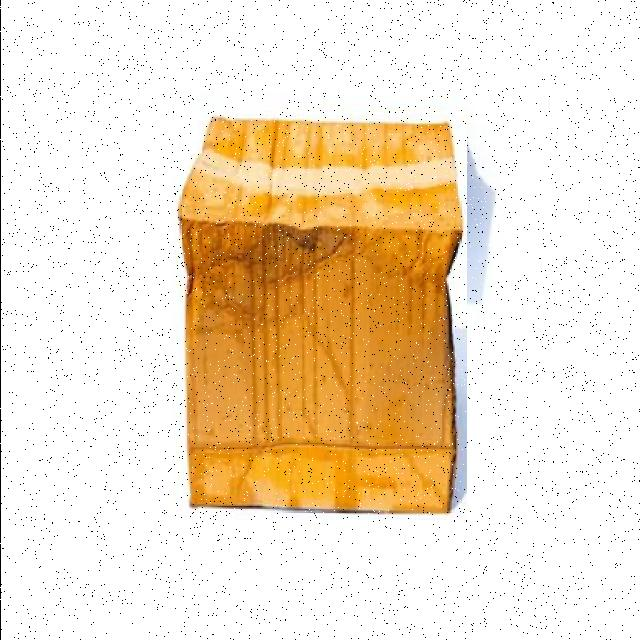defect: (172, 112, 466, 520)
